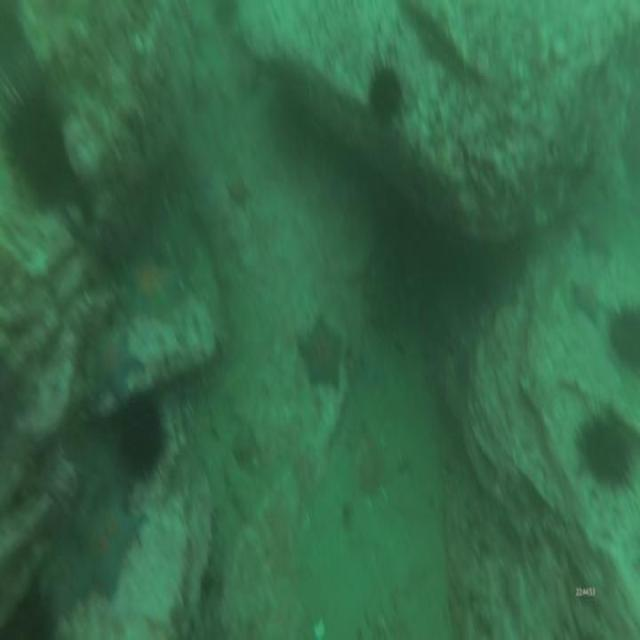echinus: (9, 87, 71, 216), (572, 395, 634, 498), (116, 380, 166, 476), (272, 91, 315, 168), (366, 55, 406, 131), (3, 586, 56, 640), (605, 300, 640, 372)
starfish: (77, 482, 147, 602), (108, 238, 190, 332), (78, 319, 144, 425), (42, 538, 96, 628), (294, 312, 348, 402), (570, 275, 609, 332), (575, 210, 615, 261), (222, 169, 254, 213)
